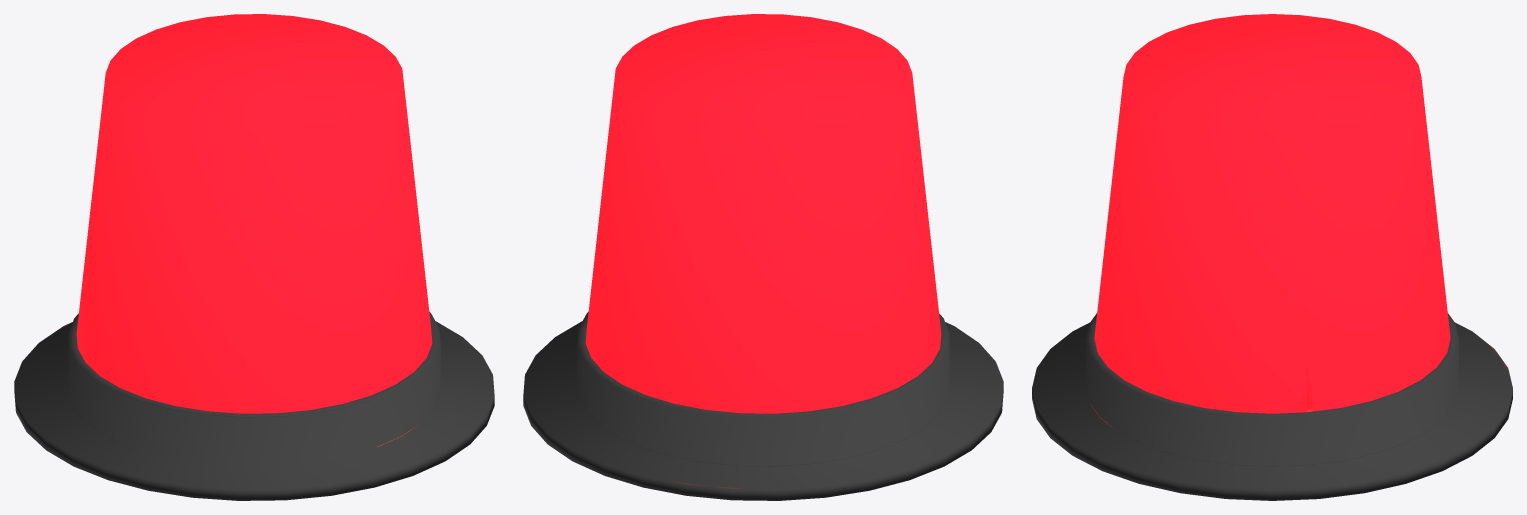
The model's file is EmergencyLight.gltf.
3 renders of one model, left to right at view 1: azimuth 30°, elevation 25°; view 2: azimuth 150°, elevation 25°; view 3: azimuth 270°, elevation 25°, orthographic.
Parts seen in each view (by area): view 1: EmergencyLight; view 2: EmergencyLight; view 3: EmergencyLight.
Part boxes in pixels (x1,y1,x2,y2): EmergencyLight: (14,14,494,500); EmergencyLight: (523,14,1003,500); EmergencyLight: (1032,14,1512,500).
Bounding box in the file's own units: 0.3 × 0.222 × 0.3.
1 material, 1 textured.
